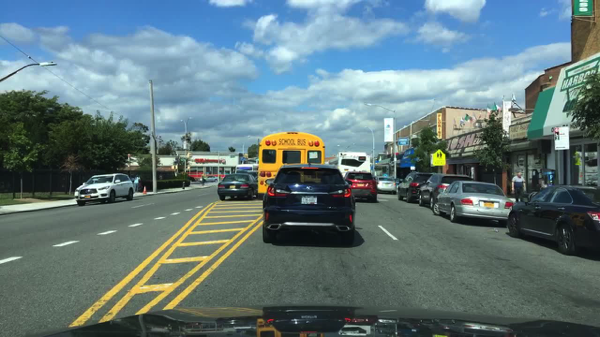bus: (257, 131, 324, 198), (325, 151, 372, 183)
car: (261, 155, 359, 246), (506, 185, 599, 258), (431, 181, 513, 223), (416, 174, 475, 210), (74, 174, 134, 206), (396, 171, 438, 203), (216, 172, 259, 201), (343, 171, 378, 203), (374, 176, 397, 196), (199, 174, 216, 183)
person: (509, 171, 526, 204), (133, 175, 140, 192), (200, 174, 206, 187)
traffic light: (170, 165, 175, 170)
traffic sign: (554, 127, 569, 151), (431, 150, 447, 167)
truck: (235, 165, 259, 173)
